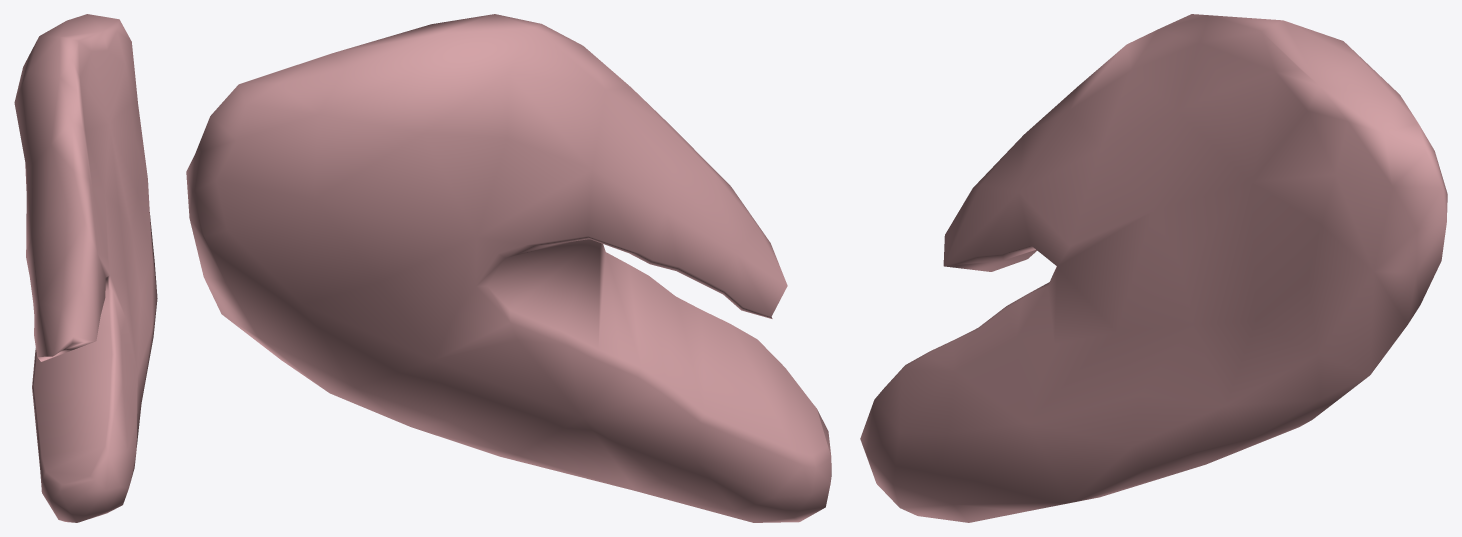
The picture shows the model from 3 angles, left to right: view 1: azimuth 30°, elevation 25°; view 2: azimuth 150°, elevation 25°; view 3: azimuth 270°, elevation 25°; orthographic projection. The views are drawn at different scales.
Visible parts, largest first — view 1: ZA_4b5ddee64191b3a2; view 2: ZA_4b5ddee64191b3a2; view 3: ZA_4b5ddee64191b3a2.
Part boxes in pixels (x1,y1,x2,y2): ZA_4b5ddee64191b3a2: [14, 14, 157, 522]; ZA_4b5ddee64191b3a2: [186, 14, 831, 522]; ZA_4b5ddee64191b3a2: [860, 14, 1447, 522].
Size of the model in its own units: 0.0157 by 0.0226 by 0.0217.
